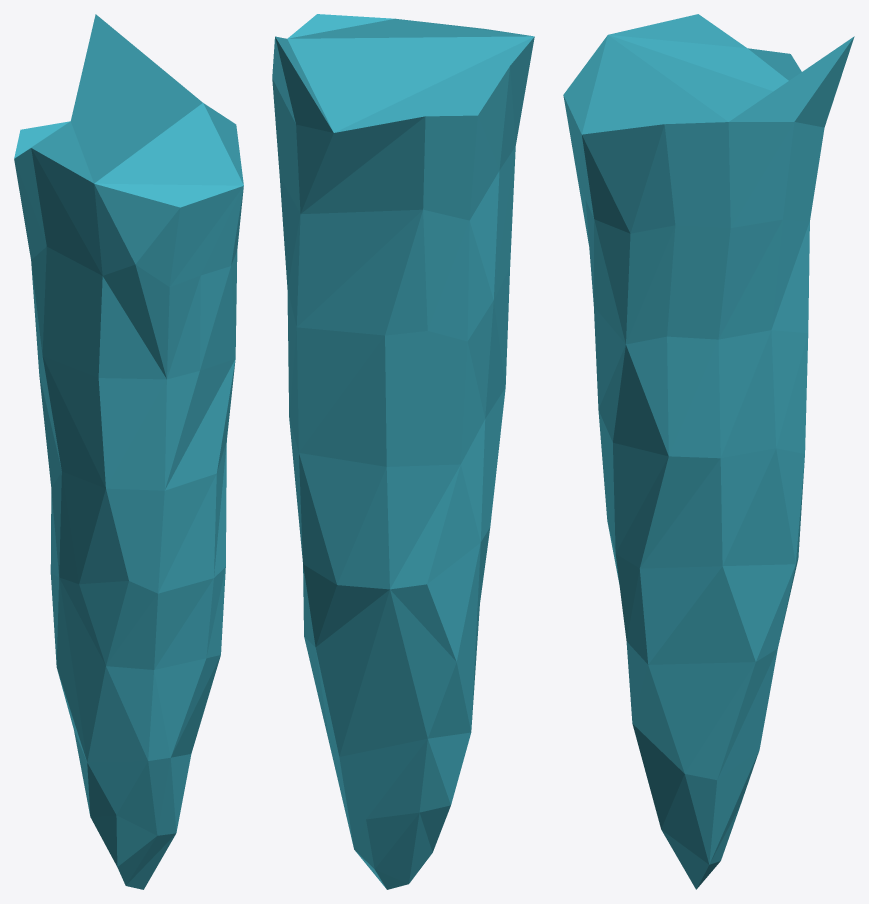
File: IceDecorationLargeIcicle2.fbx
3 views of the same model, side by side, from view 1: azimuth 30°, elevation 25°; view 2: azimuth 150°, elevation 25°; view 3: azimuth 270°, elevation 25° (orthographic). The views are drawn at different scales.
Parts seen in each view (by area): view 1: IceDecorationLargeIcicle2; view 2: IceDecorationLargeIcicle2; view 3: IceDecorationLargeIcicle2.
Part boxes in pixels (x1,y1,x2,y2): IceDecorationLargeIcicle2: (14,14,243,889); IceDecorationLargeIcicle2: (272,14,534,889); IceDecorationLargeIcicle2: (563,14,854,889).
Size of the model in its own units: 565 by 2325 by 708.
